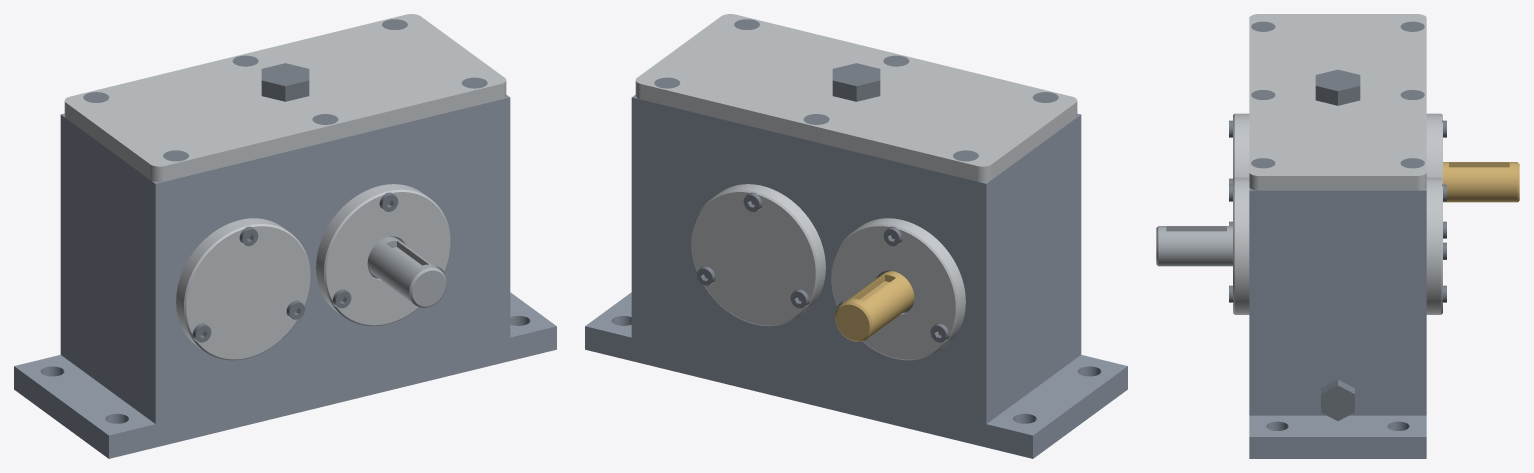
Rendered from spur_gearbox.glb.
3 views of the same model, side by side, from view 1: azimuth 30°, elevation 25°; view 2: azimuth 150°, elevation 25°; view 3: azimuth 270°, elevation 25° (orthographic). The views are drawn at different scales.
Parts seen in each view (by area): view 1: gearbox housing, cover, blind cap (input), through cap (output), output shaft, filler plug M16; view 2: gearbox housing, cover, blind cap (output), through cap (input), input pinion shaft, filler plug M16; view 3: gearbox housing, cover, output shaft, input pinion shaft, through cap (output), blind cap (output), filler plug M16, drain plug M12, through cap (input), blind cap (input).
Boxes of the visible parts, x1,y1,x2,y2 form: gearbox housing: [14, 95, 556, 458]; cover: [64, 14, 506, 182]; blind cap (input): [176, 218, 310, 360]; through cap (output): [316, 184, 450, 326]; output shaft: [367, 237, 446, 307]; filler plug M16: [261, 63, 309, 101]; gearbox housing: [585, 95, 1127, 458]; cover: [635, 14, 1077, 182]; blind cap (output): [691, 184, 825, 326]; through cap (input): [831, 218, 965, 360]; input pinion shaft: [835, 271, 914, 341]; filler plug M16: [832, 63, 880, 101]; gearbox housing: [1249, 187, 1426, 458]; cover: [1249, 14, 1426, 190]; output shaft: [1156, 226, 1232, 266]; input pinion shaft: [1443, 162, 1519, 202]; through cap (output): [1233, 177, 1249, 314]; blind cap (output): [1426, 177, 1442, 314]; filler plug M16: [1315, 69, 1360, 105]; drain plug M12: [1321, 379, 1354, 420]; through cap (input): [1426, 113, 1442, 178]; blind cap (input): [1233, 113, 1249, 178].
Bounding box in the file's own units: 240 × 151 × 180.
